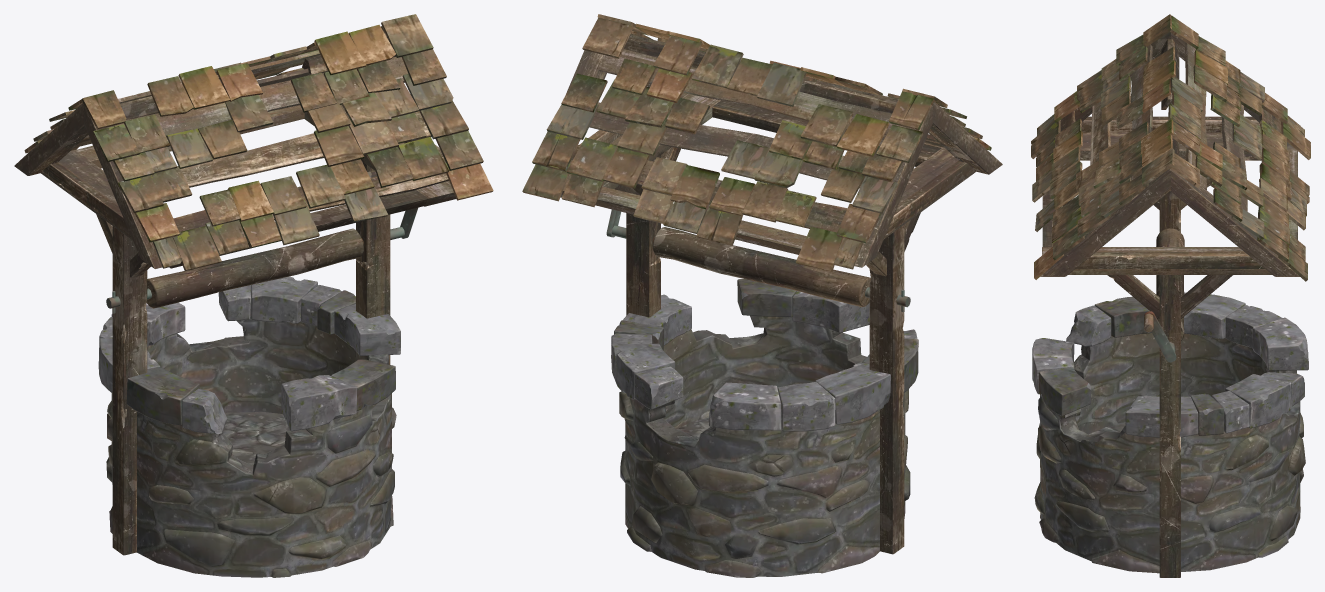
3 views of the same model, side by side, from view 1: azimuth 30°, elevation 25°; view 2: azimuth 150°, elevation 25°; view 3: azimuth 270°, elevation 25° (orthographic). The views are drawn at different scales.
Visible parts, largest first — view 1: SM_Village_Well_v2_LOD0; view 2: SM_Village_Well_v2_LOD0; view 3: SM_Village_Well_v2_LOD0.
Part boxes in pixels (x1=…): SM_Village_Well_v2_LOD0: x1=14, y1=14, x2=493, y2=577; SM_Village_Well_v2_LOD0: x1=522, y1=14, x2=1002, y2=577; SM_Village_Well_v2_LOD0: x1=1031, y1=14, x2=1310, y2=577.
Size of the model in its own units: 2.29 by 2.86 by 1.69.
3 materials, 3 textured.
